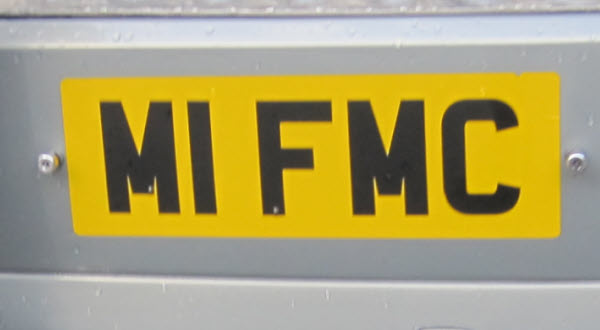license_plate: (58, 70, 561, 239)
